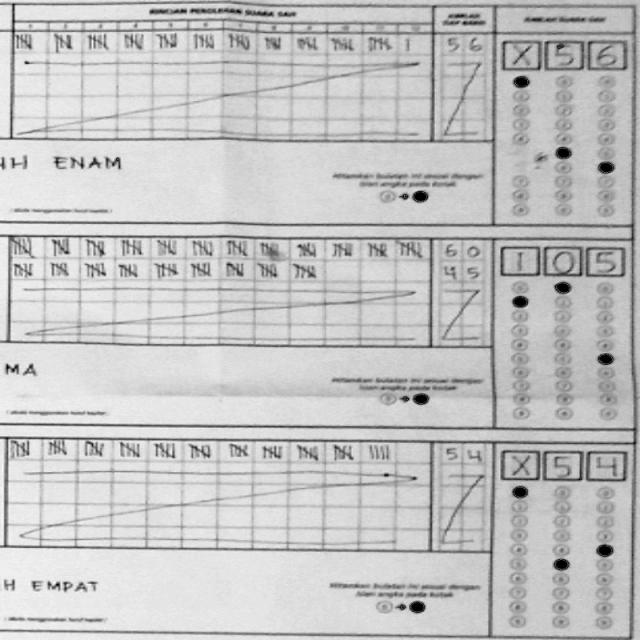Suara: (498, 32, 630, 74), (497, 240, 626, 278), (497, 446, 628, 483)
